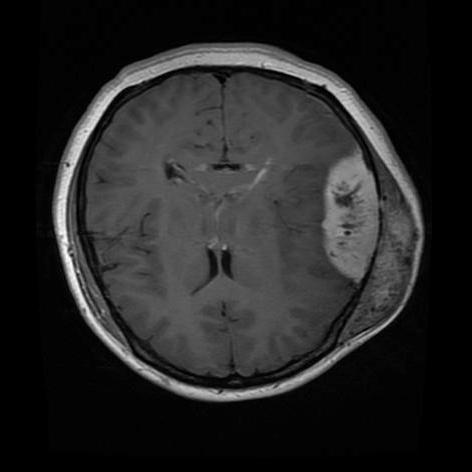Tumour-Meningioma: (309, 130, 382, 291)
